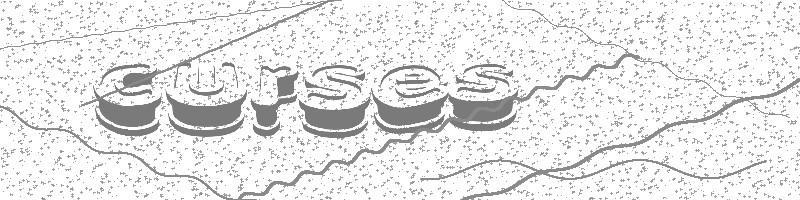c: (92, 62, 162, 138)
e: (372, 63, 447, 135)
r: (250, 65, 299, 138)
s: (298, 64, 372, 140), (448, 63, 519, 132)
u: (165, 59, 248, 138)
